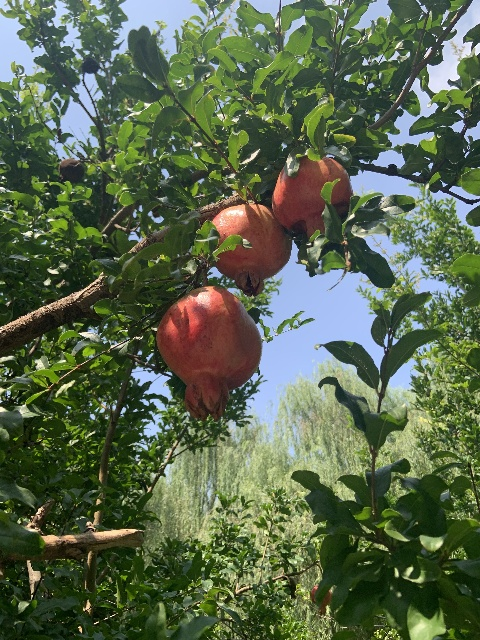ripe: (156, 286, 261, 420), (211, 203, 292, 296), (272, 156, 353, 238)
